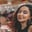face: (8, 3, 31, 26)
